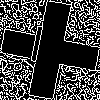I: (25, 25, 47, 72)
